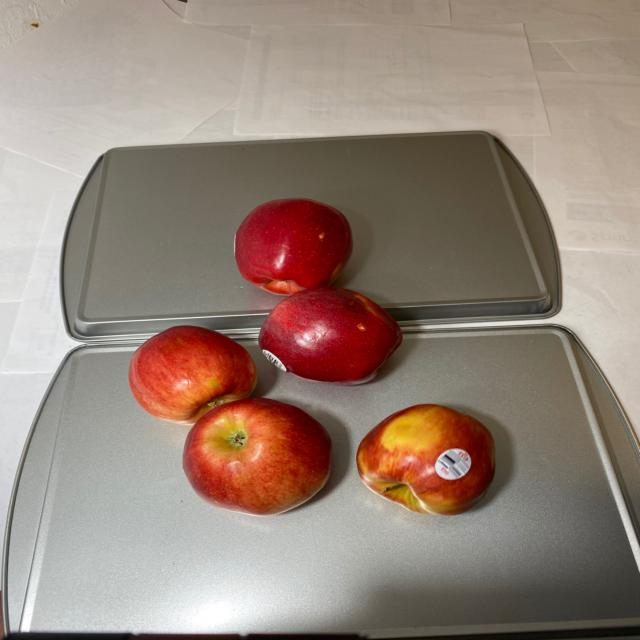Apple: (129, 196, 497, 513)
